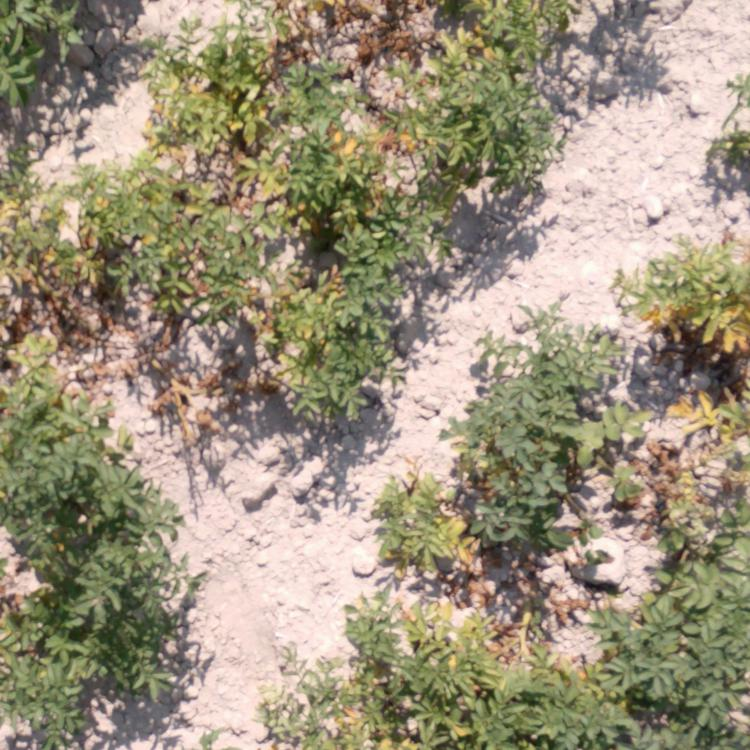healthy: (2, 428, 158, 590), (487, 310, 636, 432), (618, 623, 750, 747), (478, 442, 594, 536), (1, 604, 79, 736), (526, 646, 615, 745), (668, 504, 746, 615), (87, 602, 168, 697), (3, 1, 72, 99), (716, 69, 750, 180)
stressed: (230, 229, 379, 417), (357, 594, 512, 750), (98, 154, 222, 329), (422, 1, 560, 148), (4, 169, 87, 412), (293, 1, 422, 138), (140, 17, 271, 145), (241, 150, 461, 223), (639, 224, 750, 367), (371, 470, 472, 580), (672, 373, 746, 489), (266, 660, 346, 750)
